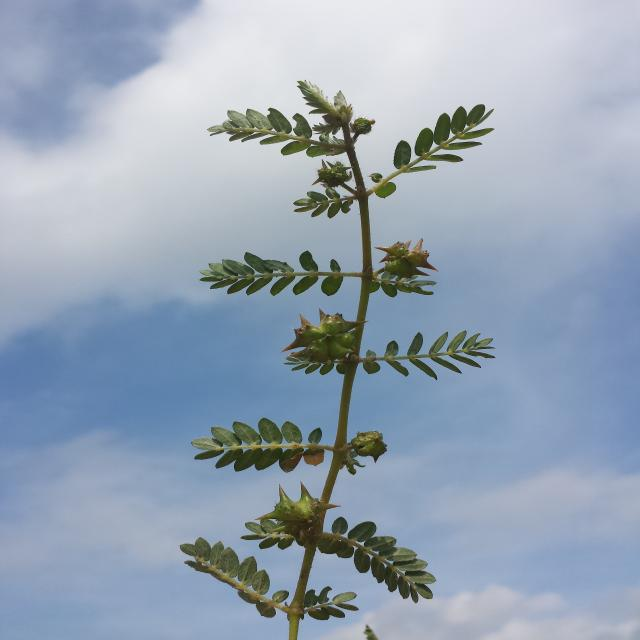Gokharu: (139, 47, 487, 640), (130, 220, 540, 422), (122, 377, 398, 640), (159, 90, 536, 247)
